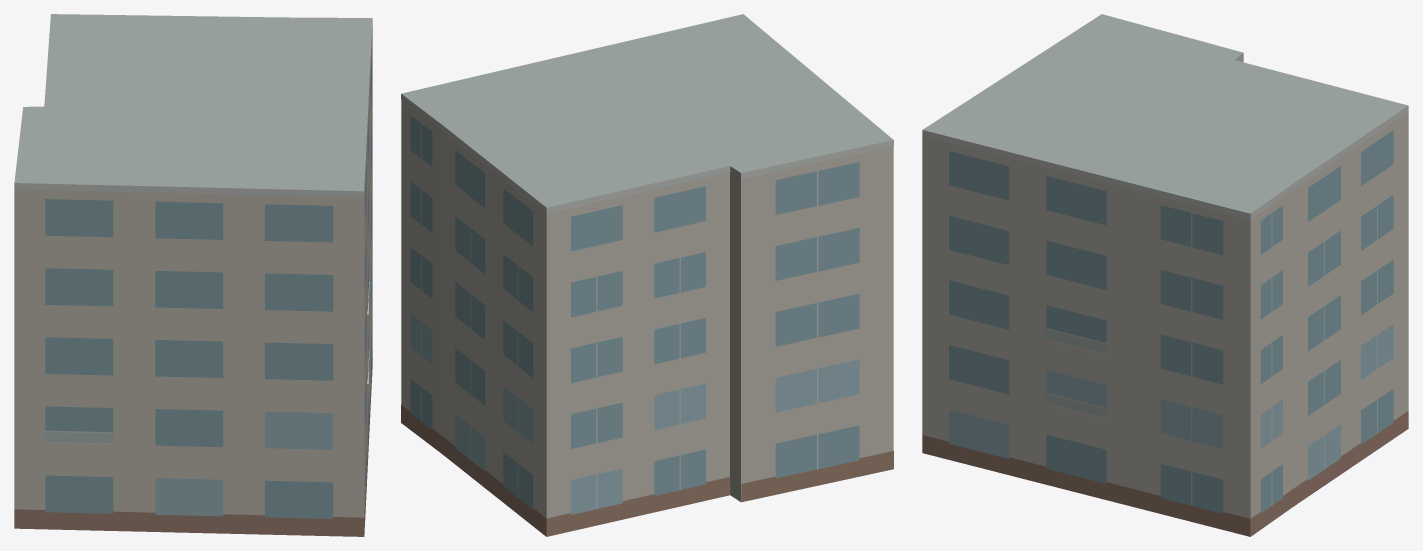
The model's file is survey-upis-32914299.glb.
The picture shows the model from 3 angles, left to right: view 1: azimuth 30°, elevation 25°; view 2: azimuth 150°, elevation 25°; view 3: azimuth 270°, elevation 25°; orthographic projection. The views are drawn at different scales.
Visible parts, largest first — view 1: survey-upis-32914299.tmp; view 2: survey-upis-32914299.tmp; view 3: survey-upis-32914299.tmp.
Boxes of the visible parts, x1,y1,x2,y2 form: survey-upis-32914299.tmp: (14, 14, 372, 536); survey-upis-32914299.tmp: (401, 14, 893, 536); survey-upis-32914299.tmp: (922, 14, 1408, 536).
Size of the model in its own units: 17.64 by 13.3 by 18.14.
